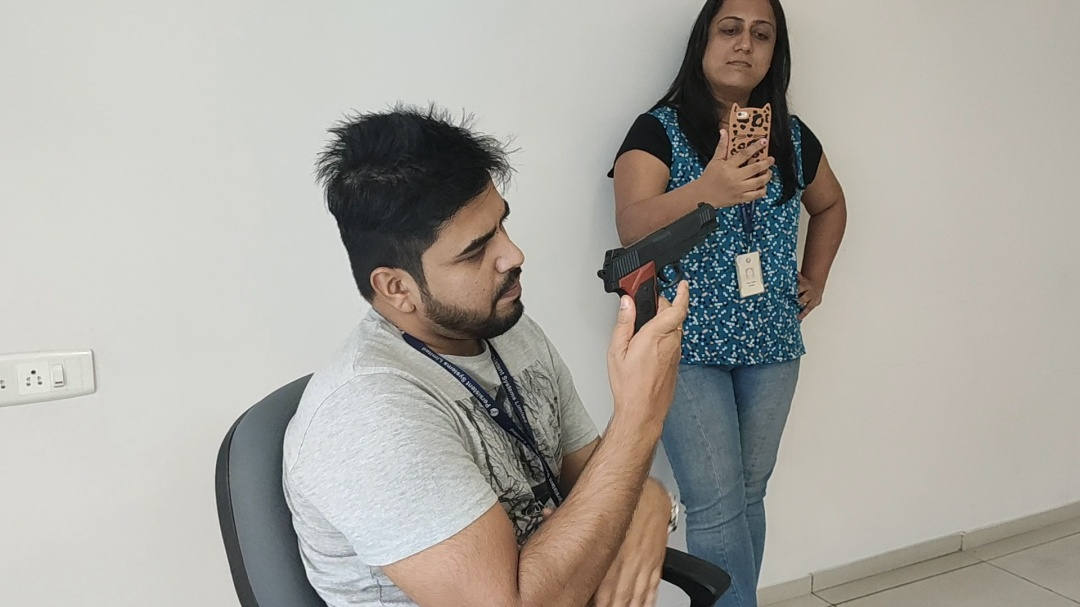gun: (248, 42, 989, 514)
